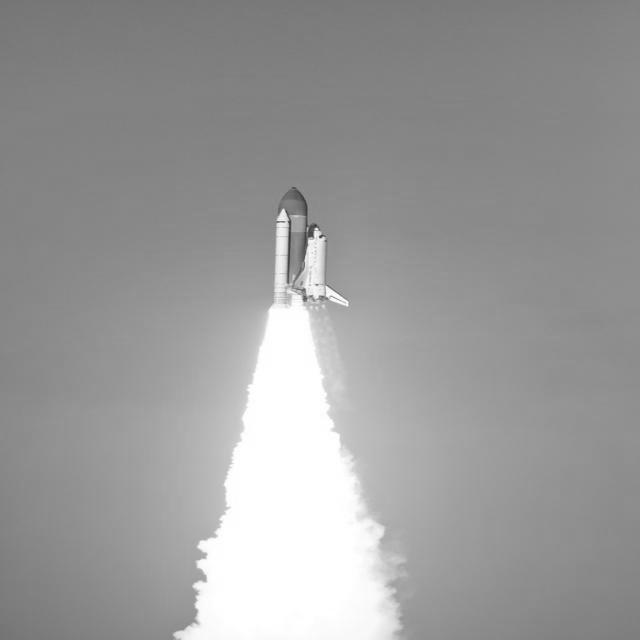missile: (263, 201, 295, 315)
